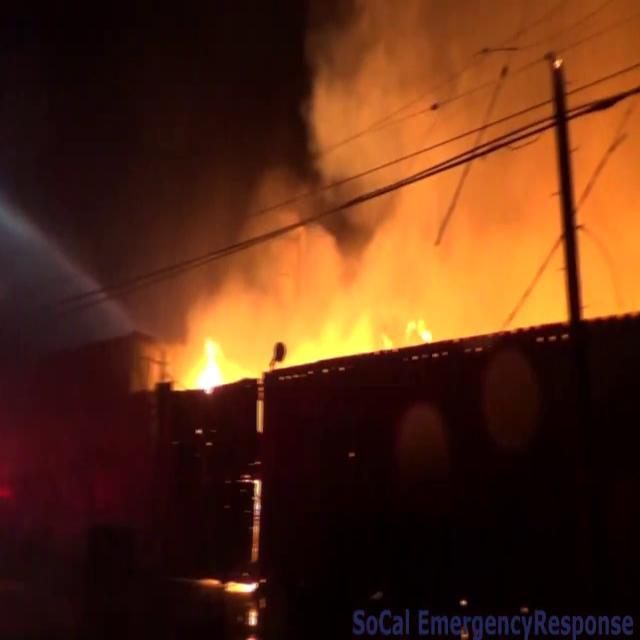Fire: (164, 324, 249, 400)
Smoke: (176, 0, 638, 313)
